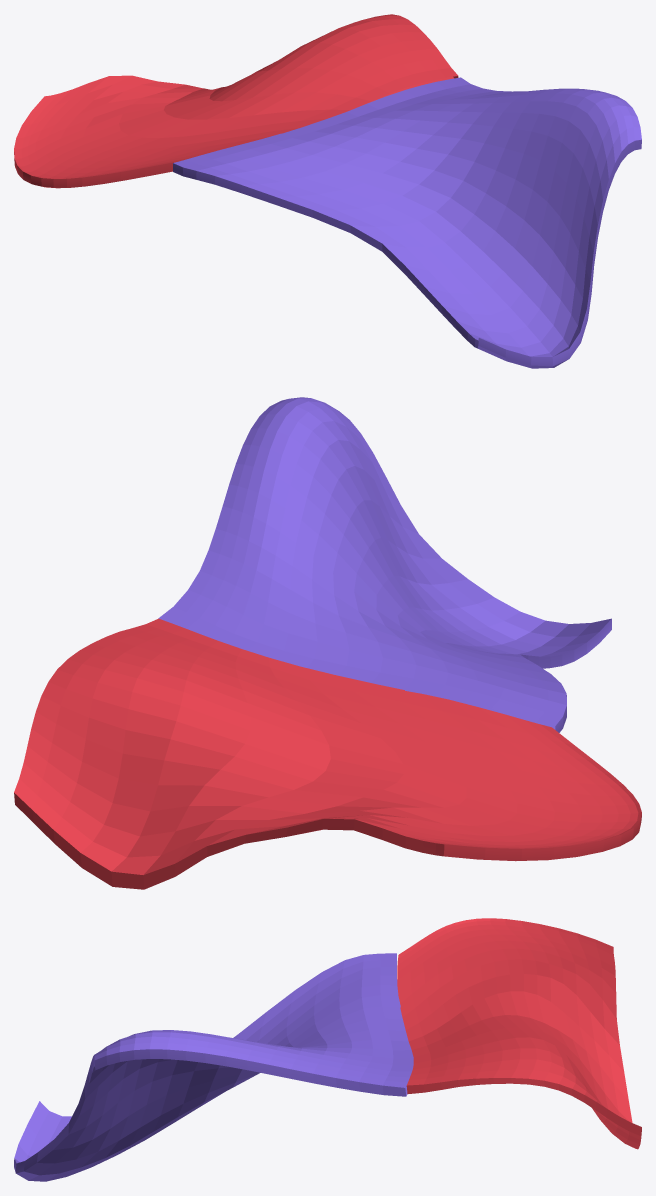
The model's file is testtwo.glb.
3 views of the same model, one above another, from view 1: azimuth 30°, elevation 25°; view 2: azimuth 150°, elevation 25°; view 3: azimuth 270°, elevation 25° (orthographic). The views are drawn at different scales.
Visible parts, largest first — view 1: floor [collider].001, floor [collider]; view 2: floor [collider], floor [collider].001; view 3: floor [collider], floor [collider].001.
Part boxes in pixels (left/top/right/bottom): floor [collider].001: left=173, top=77, right=641, bottom=368; floor [collider]: left=14, top=14, right=458, bottom=188; floor [collider]: left=14, top=618, right=641, bottom=889; floor [collider].001: left=158, top=397, right=611, bottom=732; floor [collider]: left=397, top=918, right=641, bottom=1149; floor [collider].001: left=14, top=953, right=413, bottom=1181.
Bounding box in the file's own units: 103 × 44.39 × 124.
